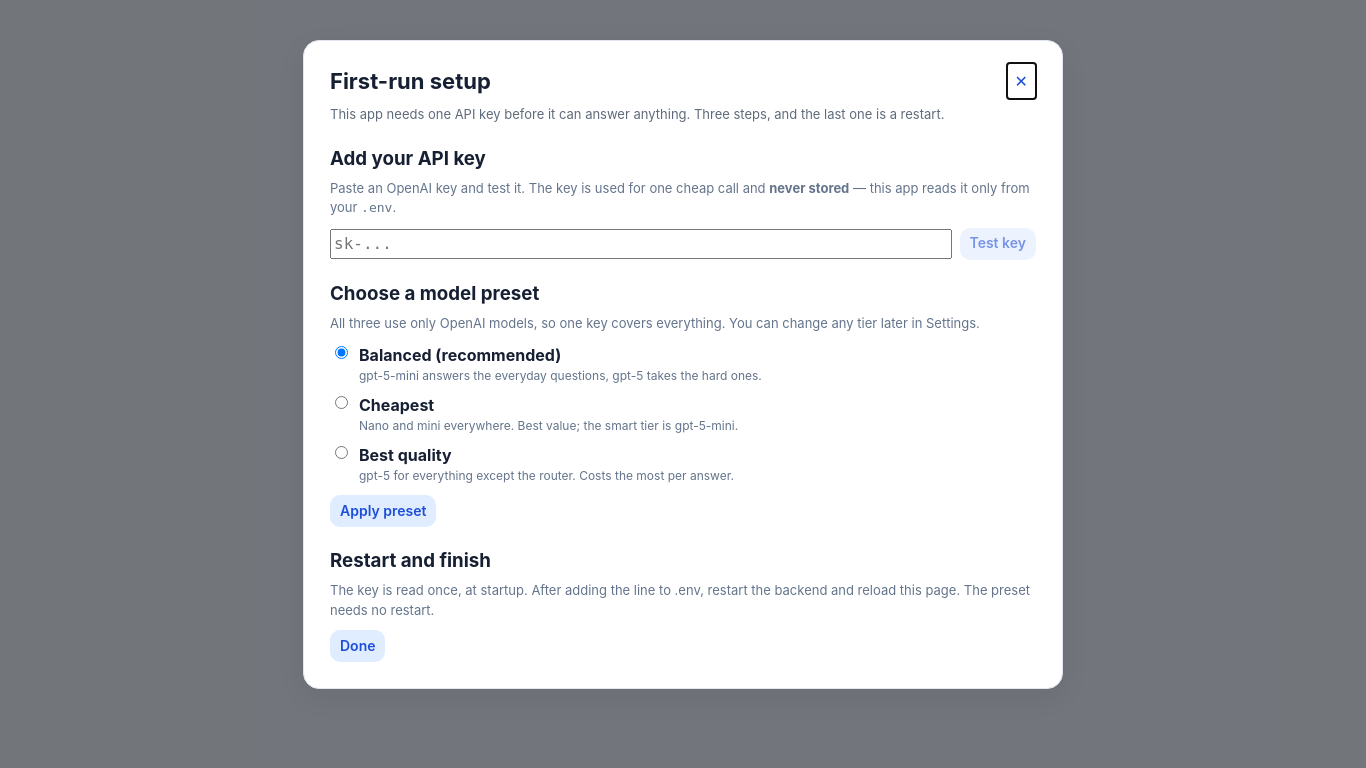
Test case: SetupWizard › tests the pasted key against the backend and shows the env line on success
This screenshot has width=1366, height=768.
Type "sk-abcdefghijklmnop" into the password field named "OpenAI API key".
click(641, 244); type("sk-abcdefghijklmnop")  # box [330,229,952,259]
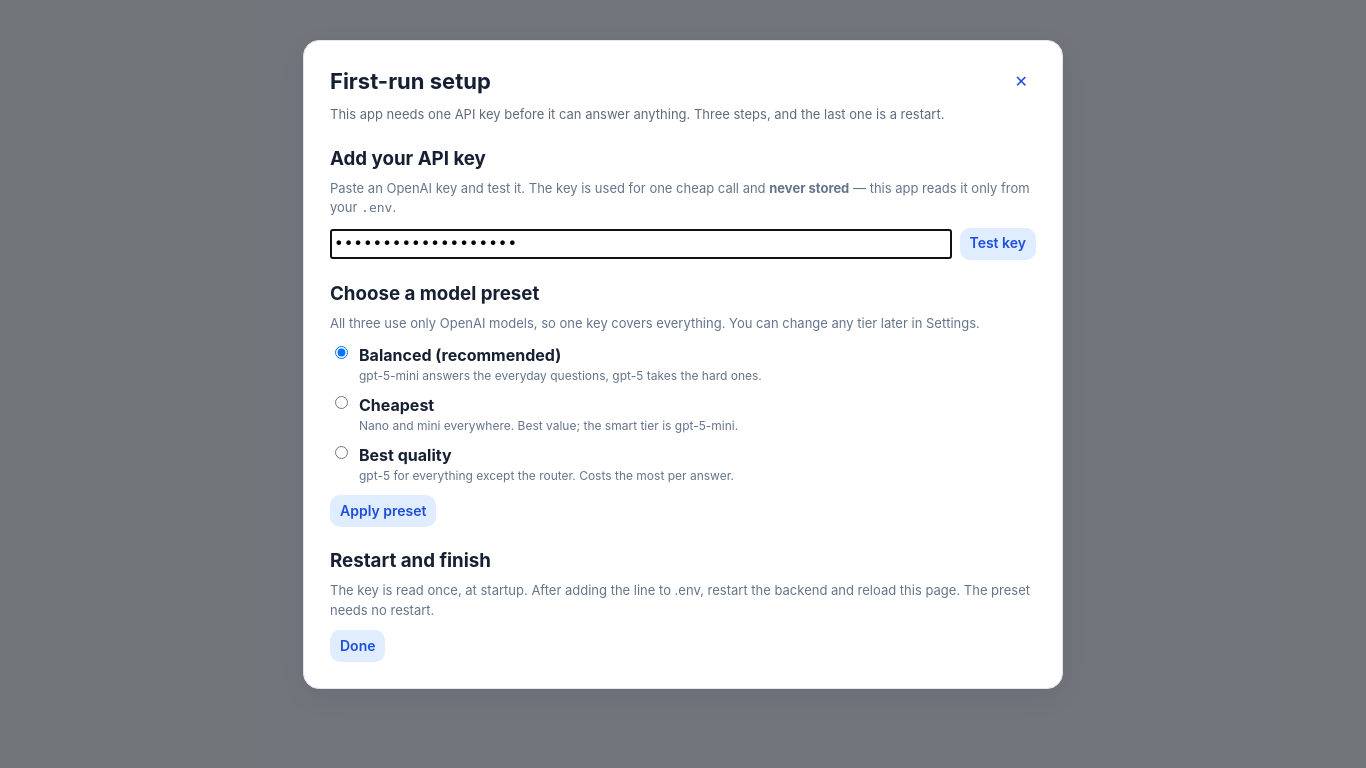
Click the button with aria-label "Test API key".
click(998, 244)  # box [960,228,1036,260]
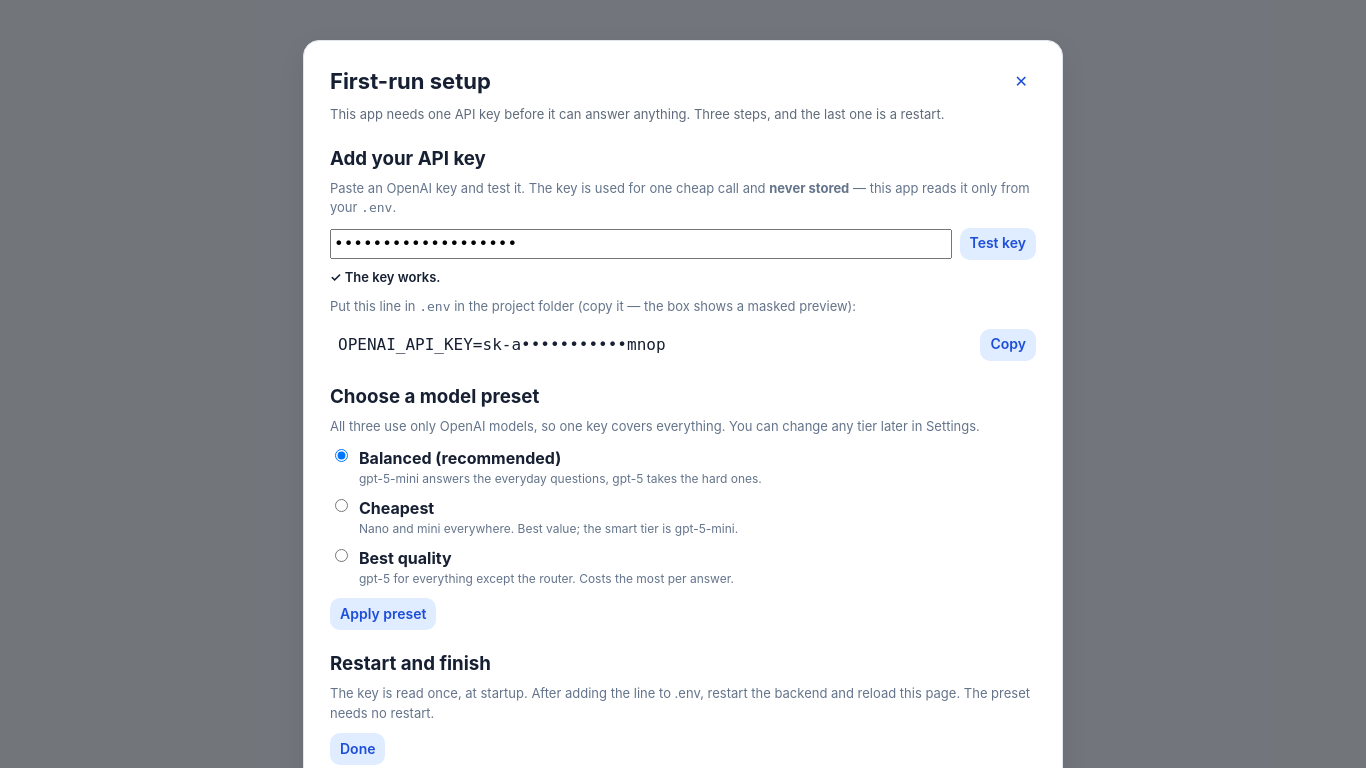
Now the text "✓ The key works." is shown, box [330,269,440,285]
Now the text named "Line to add to .env" reads "OPENAI_API_KEY=sk-a•••••••••••mnop", box [338,335,666,354]
